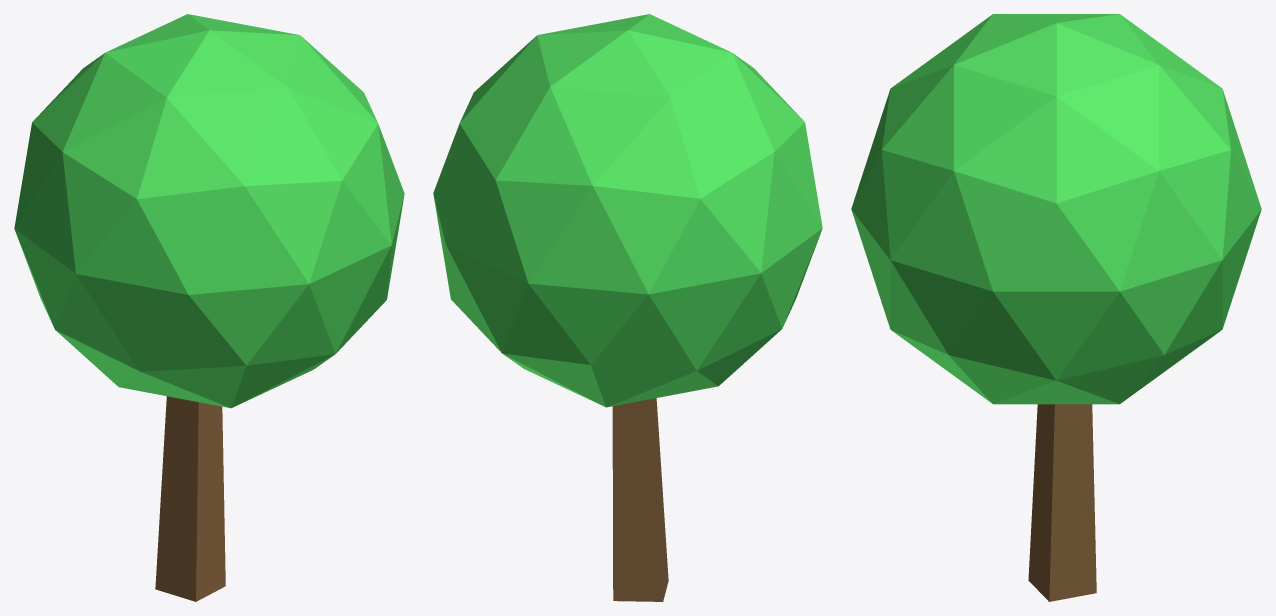
File: Tree.fbx
3 renders of one model, left to right at view 1: azimuth 30°, elevation 25°; view 2: azimuth 150°, elevation 25°; view 3: azimuth 270°, elevation 25°, orthographic. The views are drawn at different scales.
Visible parts, largest first — view 1: Icosphere, Cube; view 2: Icosphere, Cube; view 3: Icosphere, Cube.
Part boxes in pixels (left/top/right/bottom): Icosphere: left=14, top=14, right=404, bottom=408; Cube: left=155, top=396, right=225, bottom=601; Icosphere: left=433, top=14, right=822, bottom=407; Cube: left=612, top=398, right=668, bottom=601; Icosphere: left=851, top=14, right=1261, bottom=404; Cube: left=1028, top=404, right=1096, bottom=601.
Bounding box in the file's own units: 377 × 609 × 396.
